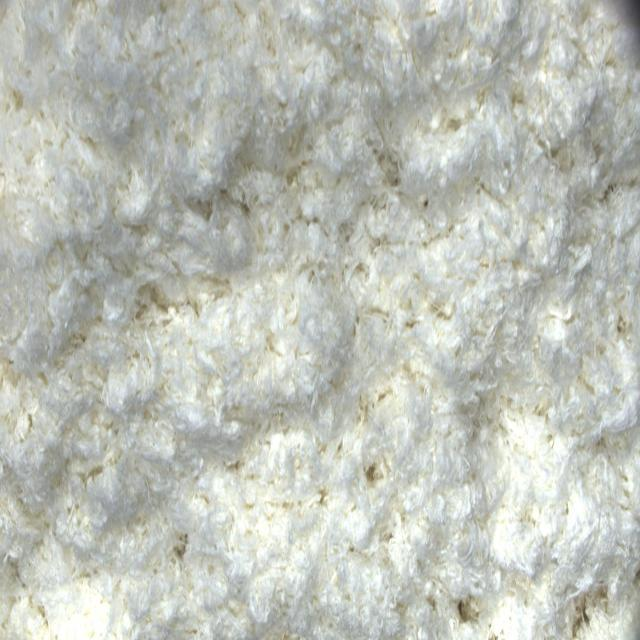dust: (450, 591, 489, 631), (369, 460, 383, 491)
